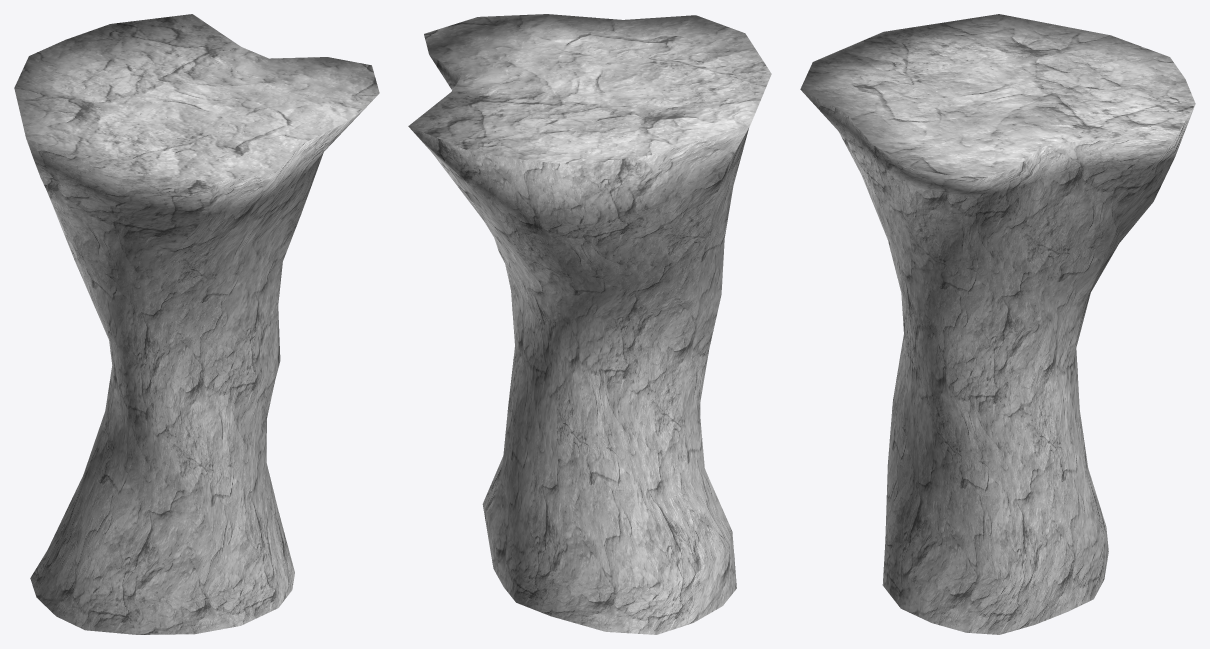
The model's file is Clif_New_02.fbx.
The picture shows the model from 3 angles, left to right: view 1: azimuth 30°, elevation 25°; view 2: azimuth 150°, elevation 25°; view 3: azimuth 270°, elevation 25°; orthographic projection.
Parts seen in each view (by area): view 1: Clif_New_02; view 2: Clif_New_02; view 3: Clif_New_02.
Part boxes in pixels (bbox=[...]): Clif_New_02: bbox=[14, 14, 379, 634]; Clif_New_02: bbox=[408, 14, 771, 634]; Clif_New_02: bbox=[800, 14, 1195, 634].
Size of the model in its own units: 17464 by 24144 by 17547.
